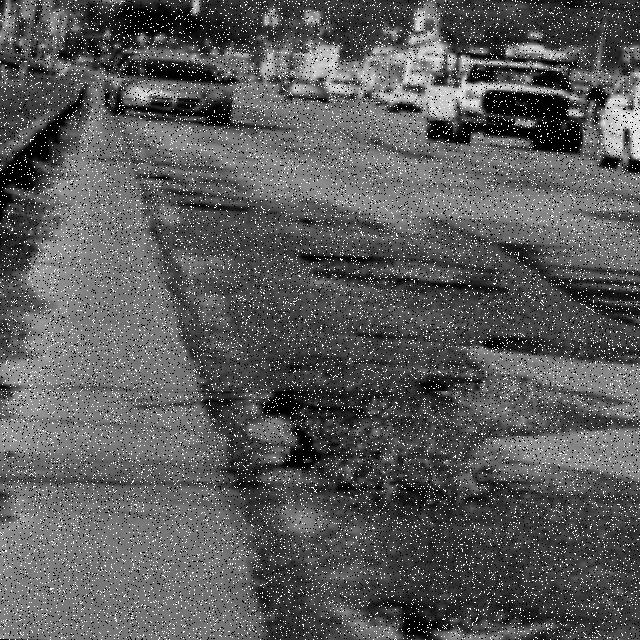pothole: (257, 378, 526, 509), (398, 605, 555, 640), (483, 336, 640, 370)
